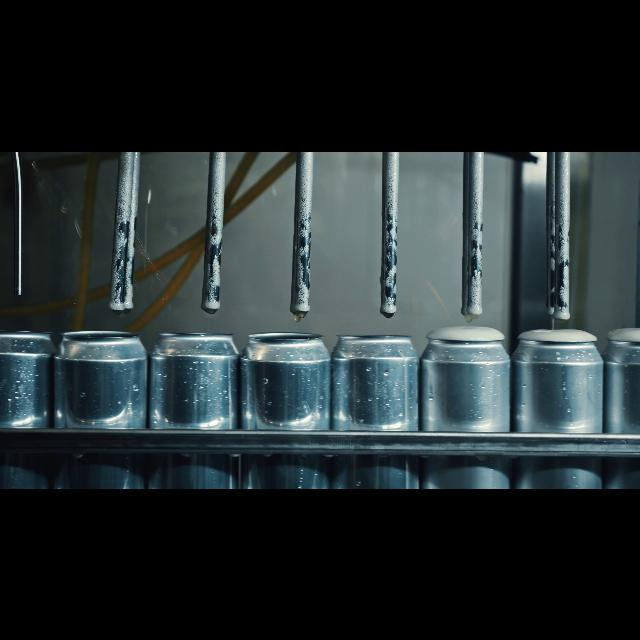empty: (154, 318, 242, 488), (58, 320, 146, 488), (328, 320, 414, 488), (248, 318, 324, 488), (1, 324, 52, 488)
full: (419, 312, 509, 488), (516, 318, 598, 488), (606, 324, 640, 488)
